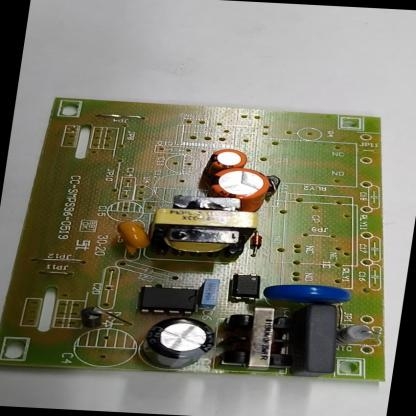Cap1: (209, 168, 270, 202)
Cap2: (208, 148, 248, 170)
Cap3: (142, 316, 217, 372)
MOSFET: (138, 284, 200, 314)
Mov: (263, 284, 352, 301)
Resistor: (339, 326, 374, 344)
Transformer: (154, 195, 261, 256), (218, 306, 300, 371)
